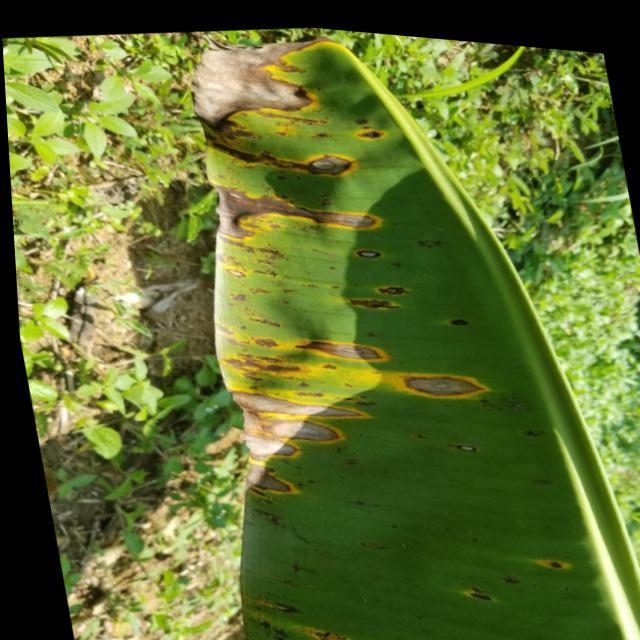Early_rust: (170, 40, 593, 640)
